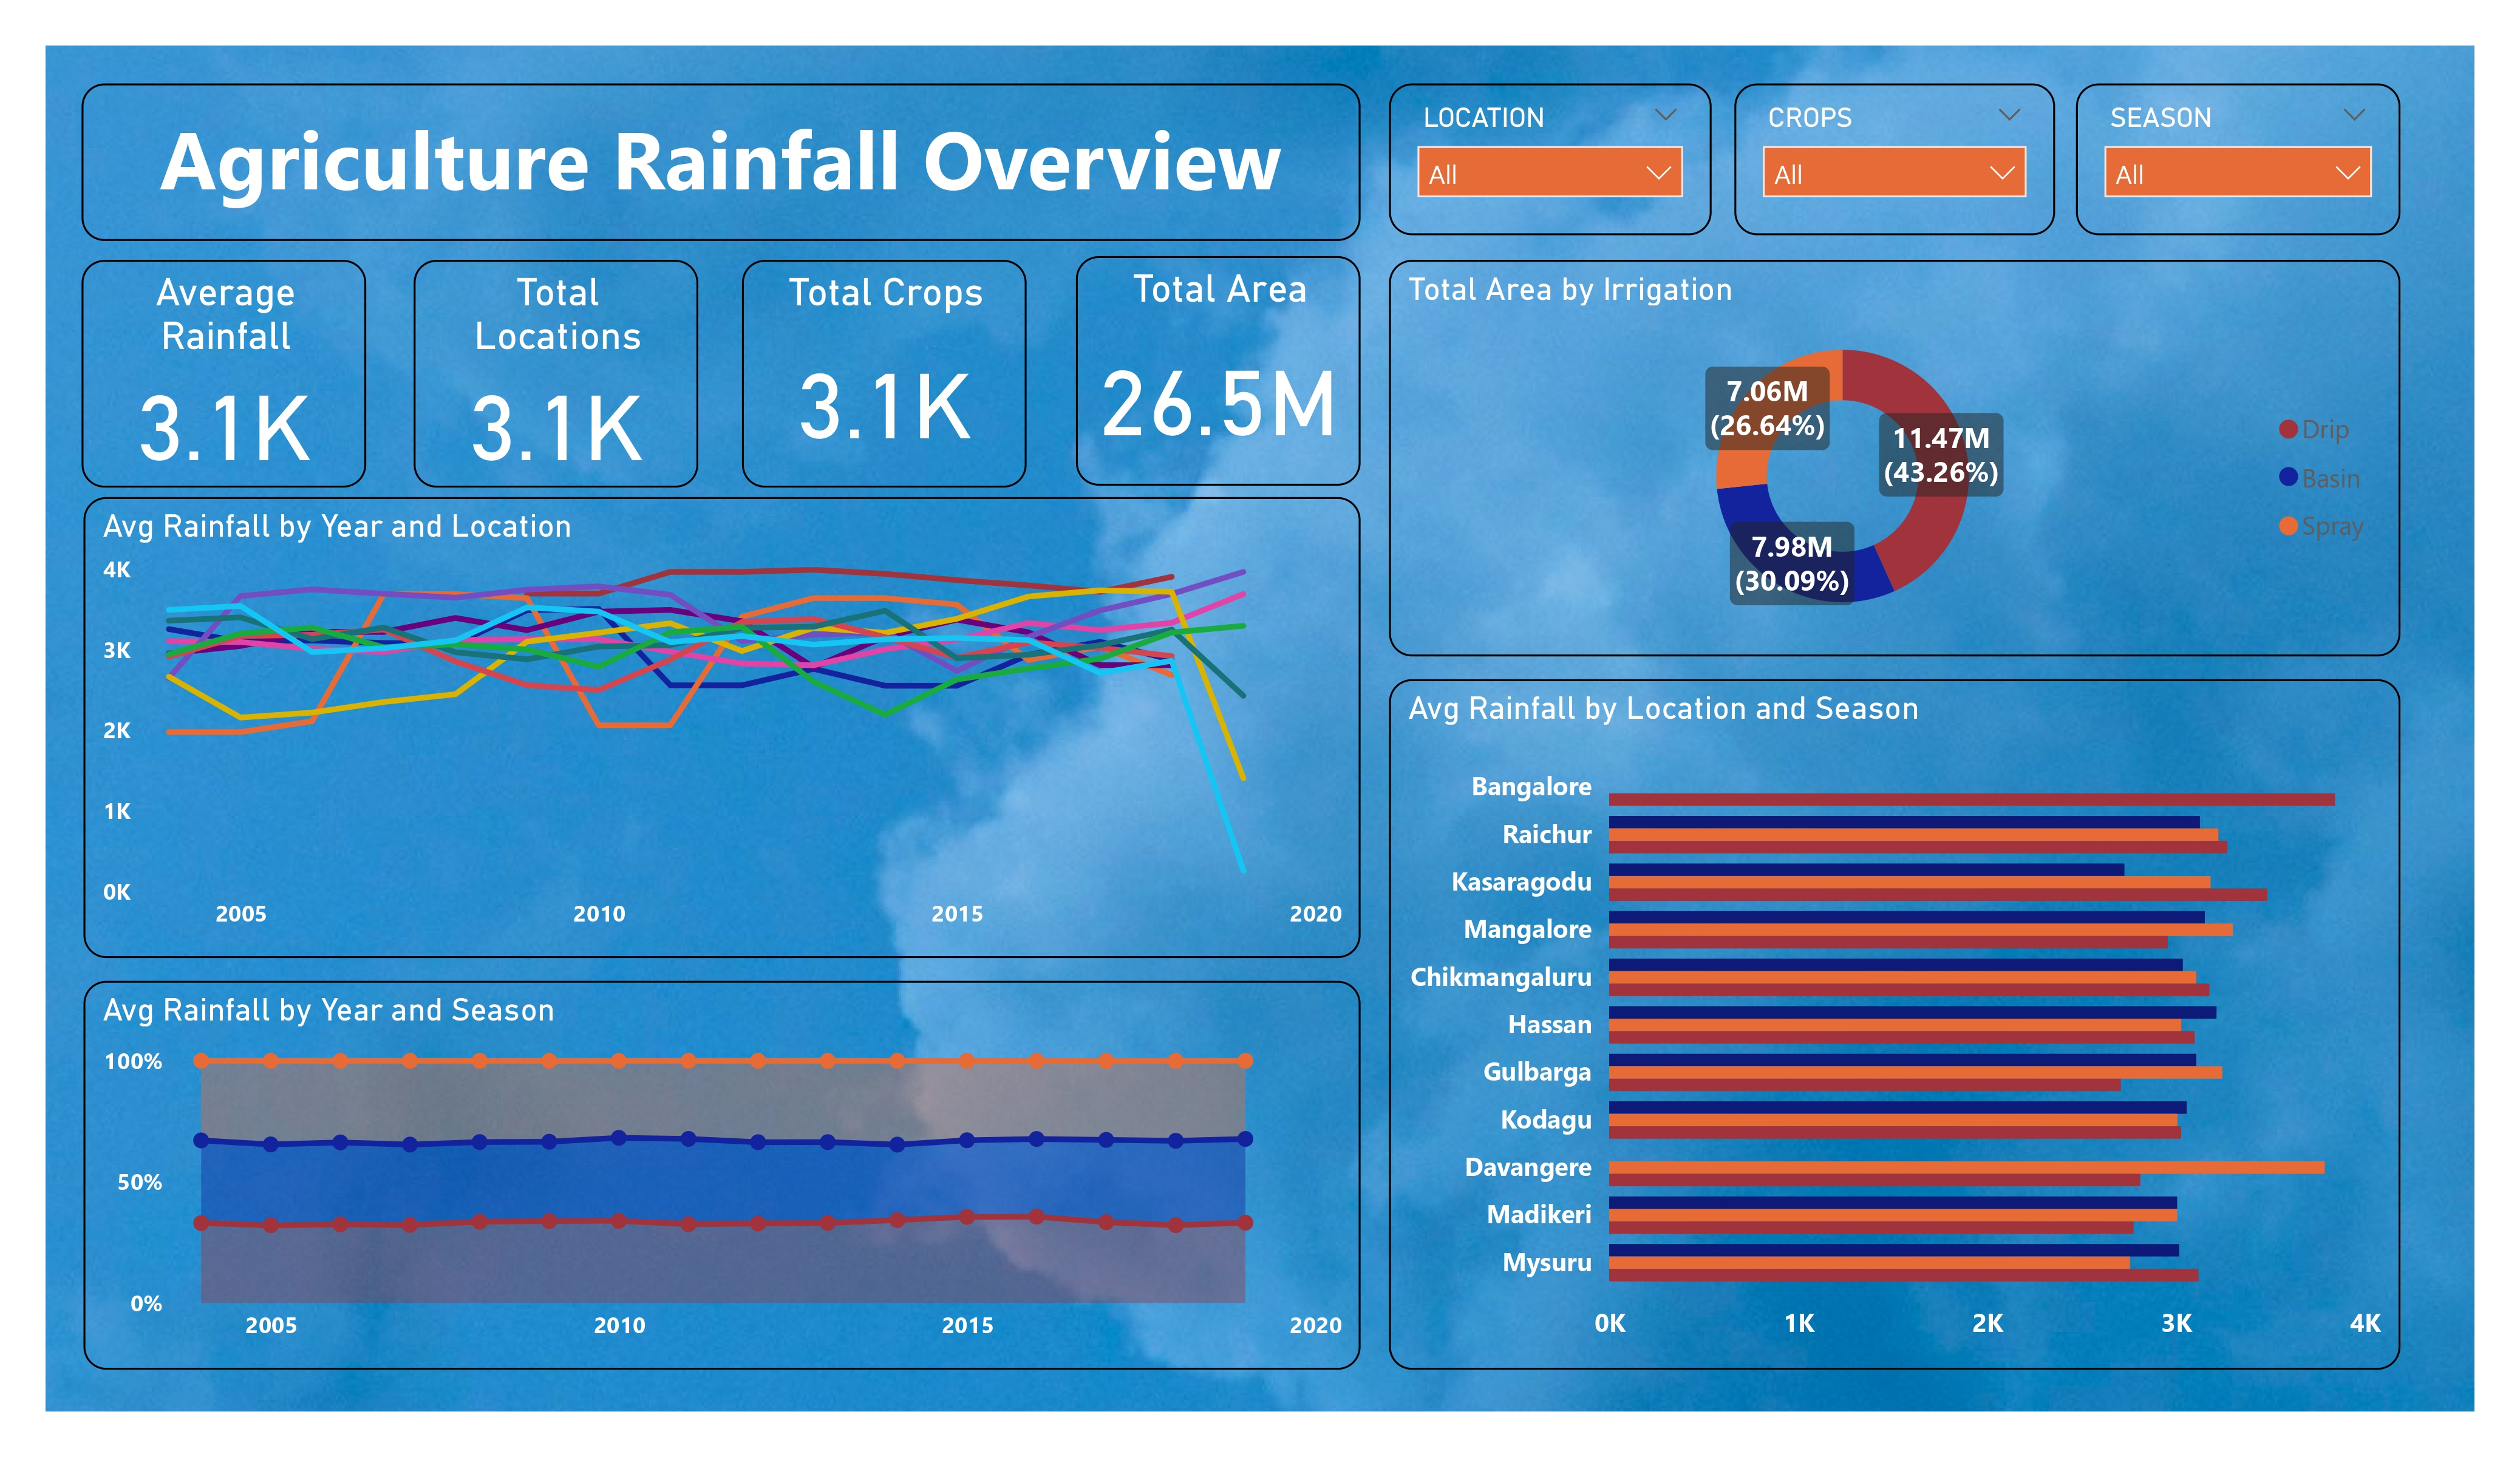

This screenshot's page, from the dashboard's own definition file:
{"tool":"powerbi","page":{"name":"Rainfall Overview","canvas":[1280,720],"ordinal":0},"visuals":[{"type":"card","title":"Average Rainfall","fields":{"Values":["AGRICULTURE.Avg Rainfall"]},"box":[18.8,112.5,150,120.3],"z":0},{"type":"card","title":"Total Crops","fields":{"Values":["AGRICULTURE.Avg Rainfall"]},"box":[367.2,112.5,150,120.3],"z":1000},{"type":"card","title":"Total Locations","fields":{"Values":["AGRICULTURE.Avg Rainfall"]},"box":[193.8,112.5,150,120.3],"z":2000},{"type":"lineChart","title":"Avg Rainfall by Year and Location","fields":{"Category":["AGRICULTURE.YEAR"],"Y":["AGRICULTURE.Avg Rainfall"],"Series":["AGRICULTURE.LOCATION"]},"box":[19.8,238.4,673.3,243],"z":3000},{"type":"slicer","fields":{"Values":["AGRICULTURE.CROPS"]},"box":[889.5,19.8,169.8,80.2],"z":4000},{"type":"slicer","fields":{"Values":["AGRICULTURE.SEASON"]},"box":[1069.8,19.8,170.9,80.2],"z":5000},{"type":"slicer","fields":{"Values":["AGRICULTURE.LOCATION"]},"box":[708.1,19.8,170,80],"z":6000},{"type":"clusteredBarChart","title":"Avg Rainfall by Location and Season","fields":{"Category":["AGRICULTURE.LOCATION"],"Y":["AGRICULTURE.Avg Rainfall"],"Series":["AGRICULTURE.SEASON"]},"box":[708.1,333.7,532.6,364],"z":7000},{"type":"donutChart","title":"Total Area by Irrigation","fields":{"Category":["AGRICULTURE.IRRIGATION"],"Y":["AGRICULTURE.Total Area"]},"box":[708.1,112.8,532.6,209.3],"z":8000},{"type":"textbox","box":[18.6,19.8,674.4,83.7],"z":9000},{"type":"card","title":"Total Area","fields":{"Values":["AGRICULTURE.Total Area"]},"box":[543.1,111.1,150,120.8],"z":10000},{"type":"hundredPercentStackedAreaChart","title":"Avg Rainfall by Year and Season","fields":{"Y":["AGRICULTURE.Avg Rainfall"],"Category":["AGRICULTURE.YEAR"],"Series":["AGRICULTURE.SEASON"]},"box":[19.8,493,673.3,204.7],"z":11000}]}

Visuals, with their boxes on the page's 1280x720 design canvas (x1, y1, x2, y2). These are canvas units, not pixel positions in the 2520x1457 screenshot, which may show the page scaled, cropped or inside an application window:
"Average Rainfall" card: left=19, top=112, right=169, bottom=233
"Total Crops" card: left=367, top=112, right=517, bottom=233
"Total Locations" card: left=194, top=112, right=344, bottom=233
"Avg Rainfall by Year and Location" lineChart: left=20, top=238, right=693, bottom=481
slicer - AGRICULTURE.CROPS: left=890, top=20, right=1059, bottom=100
slicer - AGRICULTURE.SEASON: left=1070, top=20, right=1241, bottom=100
slicer - AGRICULTURE.LOCATION: left=708, top=20, right=878, bottom=100
"Avg Rainfall by Location and Season" clusteredBarChart: left=708, top=334, right=1241, bottom=698
"Total Area by Irrigation" donutChart: left=708, top=113, right=1241, bottom=322
textbox: left=19, top=20, right=693, bottom=104
"Total Area" card: left=543, top=111, right=693, bottom=232
"Avg Rainfall by Year and Season" hundredPercentStackedAreaChart: left=20, top=493, right=693, bottom=698
